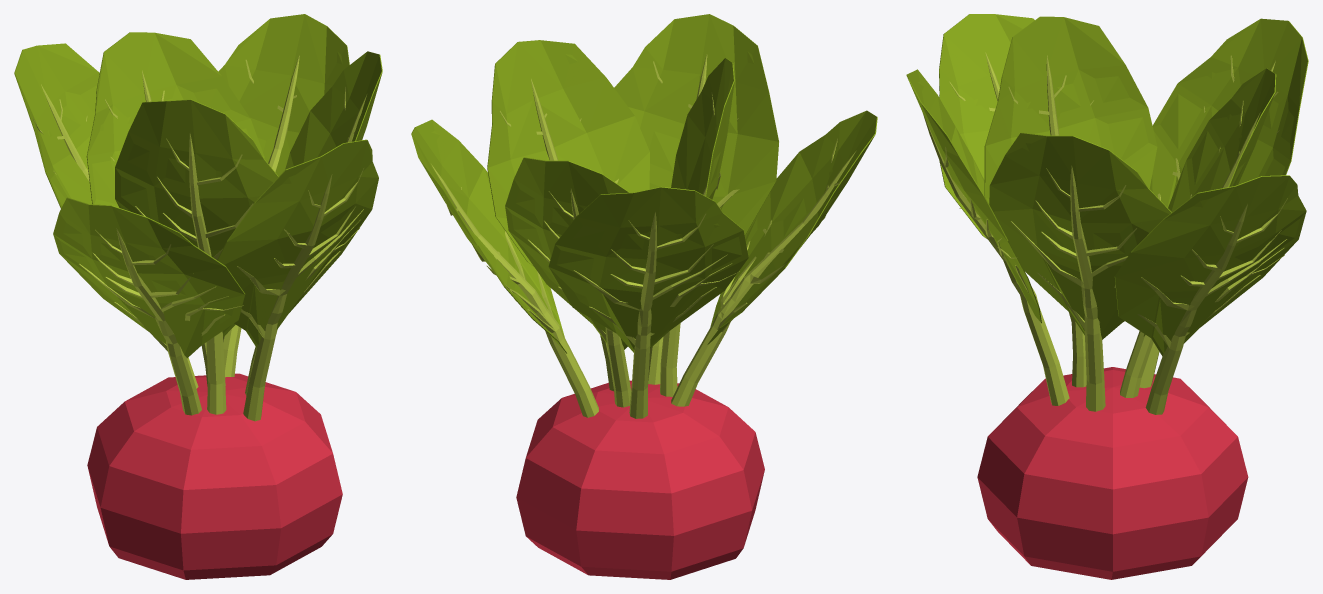
The model's file is beet.fbx.
The picture shows the model from 3 angles, left to right: view 1: azimuth 30°, elevation 25°; view 2: azimuth 150°, elevation 25°; view 3: azimuth 270°, elevation 25°; orthographic projection. The views are drawn at different scales.
Parts seen in each view (by area): view 1: beet; view 2: beet; view 3: beet.
Boxes of the visible parts, box(x1,y1,x2,y2) form: beet: box(14, 14, 382, 579); beet: box(411, 14, 877, 579); beet: box(906, 14, 1308, 579).
Bounding box in the file's own units: 23.85 × 29.95 × 22.46.
